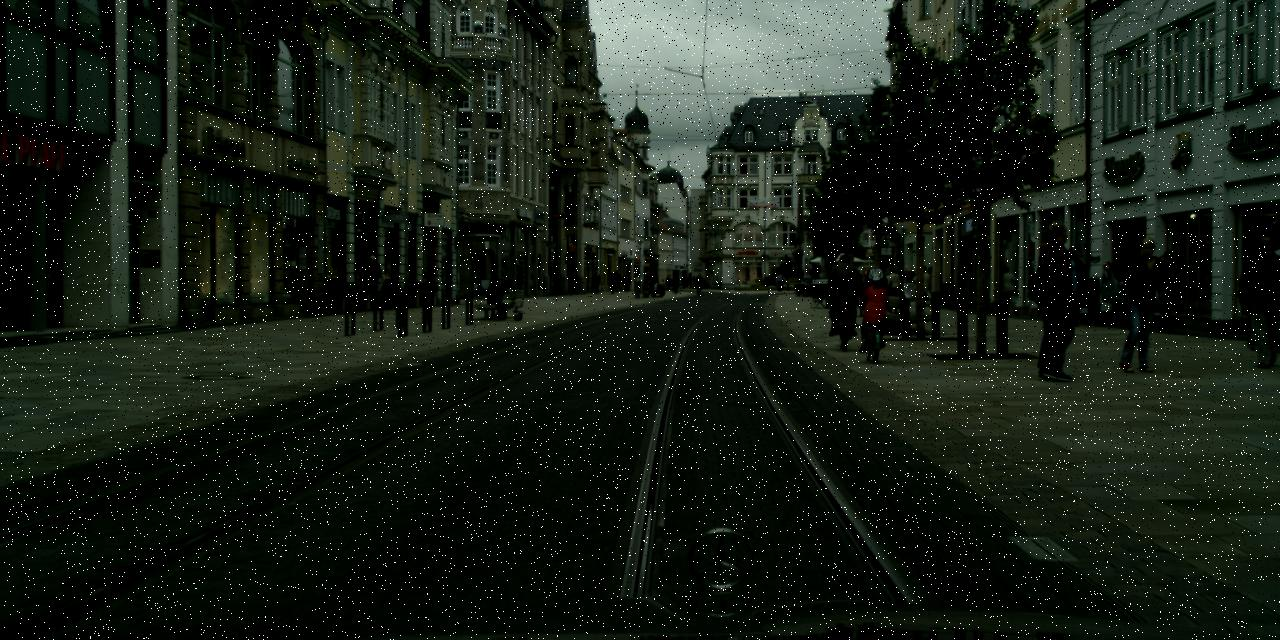ped: (1022, 220, 1086, 378), (1114, 236, 1168, 371), (1241, 236, 1279, 365), (1148, 249, 1182, 332), (858, 268, 891, 350), (827, 254, 859, 335), (1056, 247, 1086, 325), (361, 255, 382, 307), (887, 264, 916, 298), (925, 266, 933, 298), (607, 270, 616, 293), (591, 271, 600, 293), (612, 268, 620, 291), (682, 275, 692, 289), (622, 272, 629, 290), (695, 273, 702, 290), (664, 275, 670, 291), (674, 275, 678, 288), (909, 302, 914, 309), (926, 302, 930, 310), (858, 268, 862, 273), (915, 302, 916, 307), (865, 286, 866, 288)
